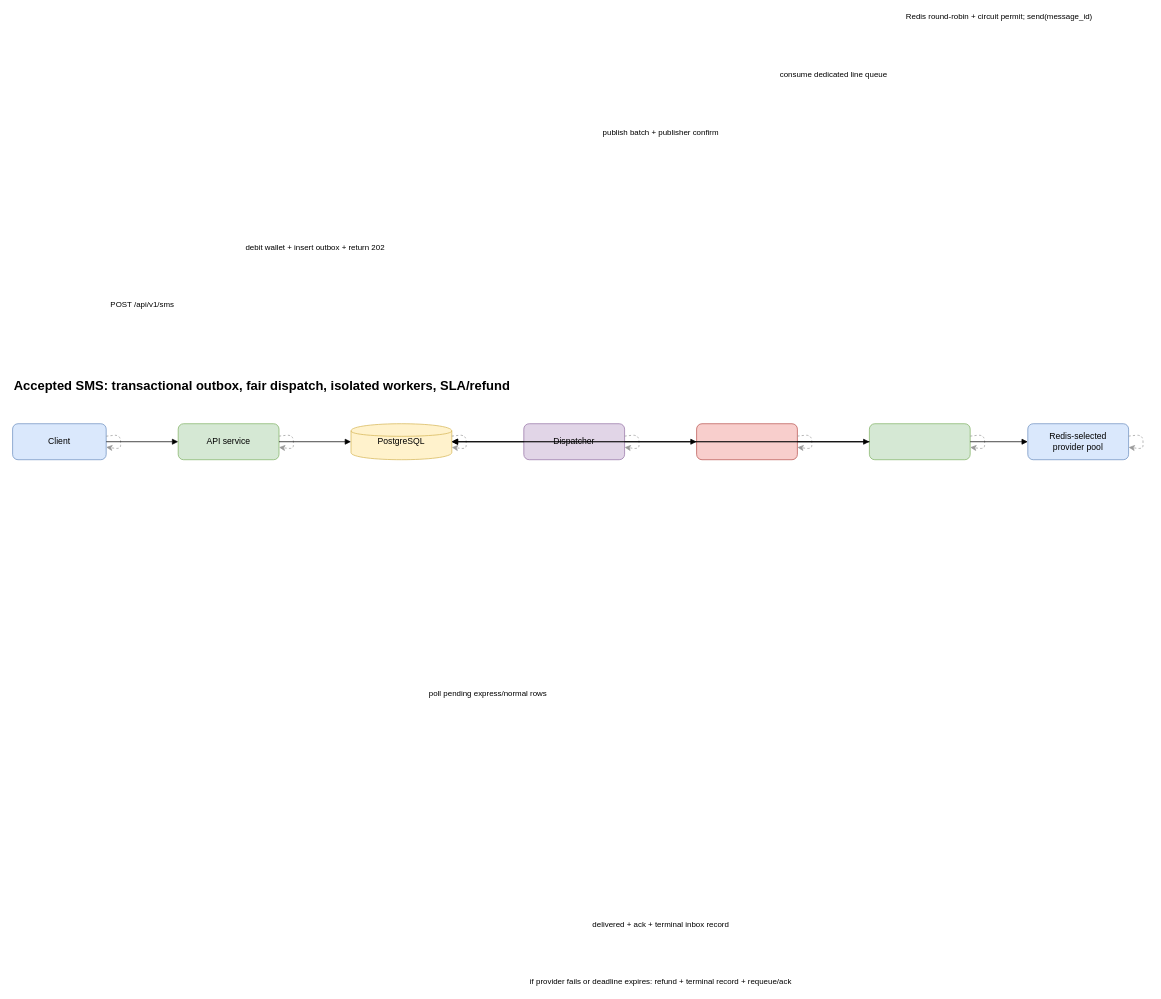
Image size: 1161x999. Some labels were removed from this diagram. Each missing label, with the box of its shape:
Line worker: (869, 423, 970, 460)
RabbitMQ: (696, 423, 797, 460)
